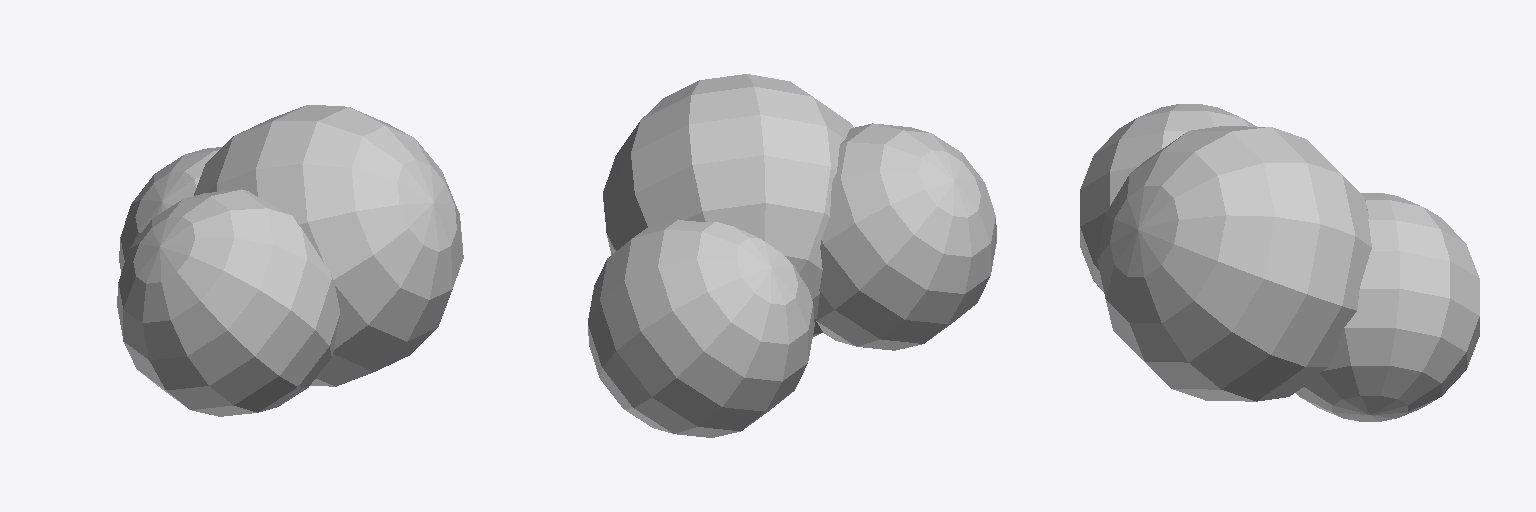
The picture shows the model from 3 angles: view 1: azimuth 30°, elevation 25°; view 2: azimuth 150°, elevation 25°; view 3: azimuth 270°, elevation 25°; orthographic projection.
Visible parts, largest first — view 1: bubbles8_group[number redacted]; view 2: bubbles8_group[number redacted]; view 3: bubbles8_group[number redacted].
Boxes of the visible parts, x1=… form: bubbles8_group[number redacted]: x1=117, y1=105, x2=463, y2=416; bubbles8_group[number redacted]: x1=588, y1=74, x2=996, y2=437; bubbles8_group[number redacted]: x1=1080, y1=104, x2=1479, y2=421.
Size of the model in its own units: 0.3052 by 0.2476 by 0.3136.